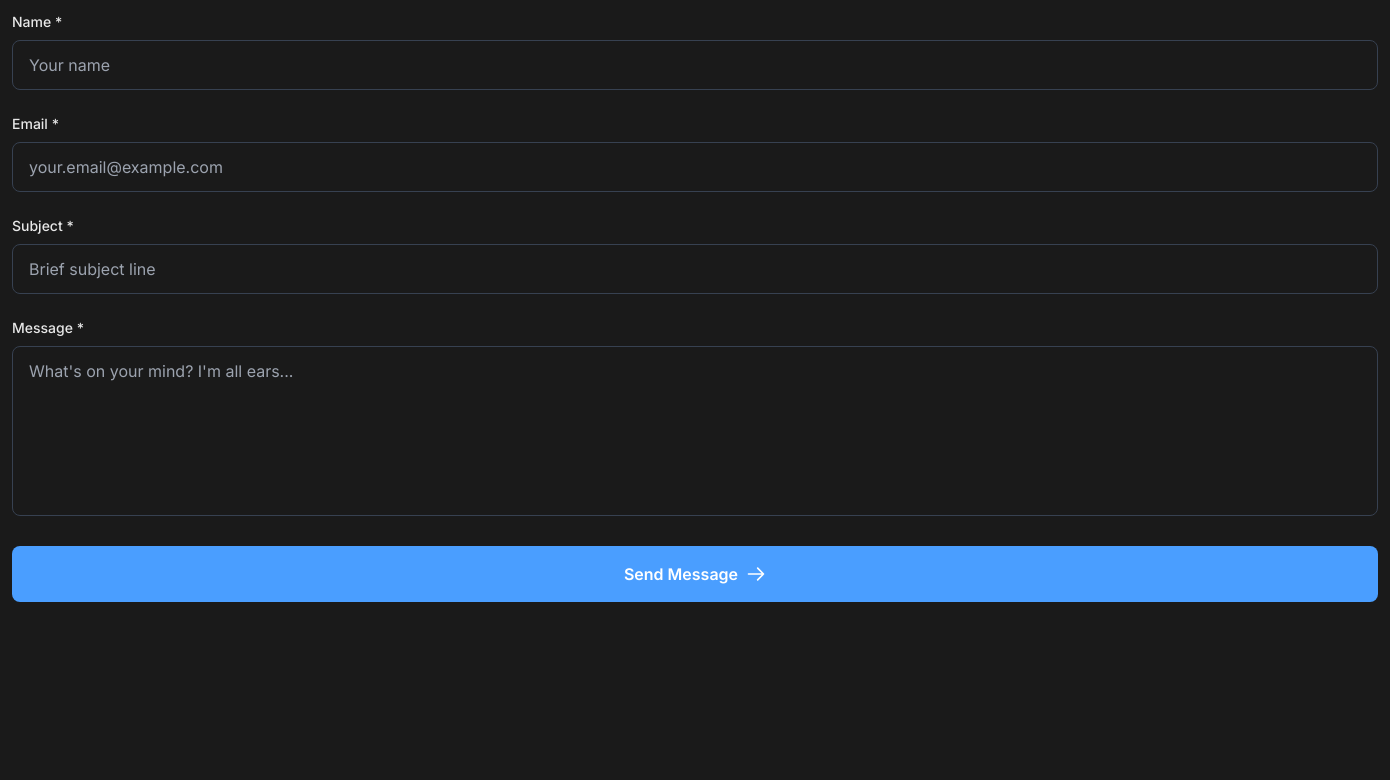
Scenario: ContactForm › Form Submission Flow › shows loading state during submission
In the field labelled "Name *": (695, 65) [12, 40, 1378, 90], type "John Doe"
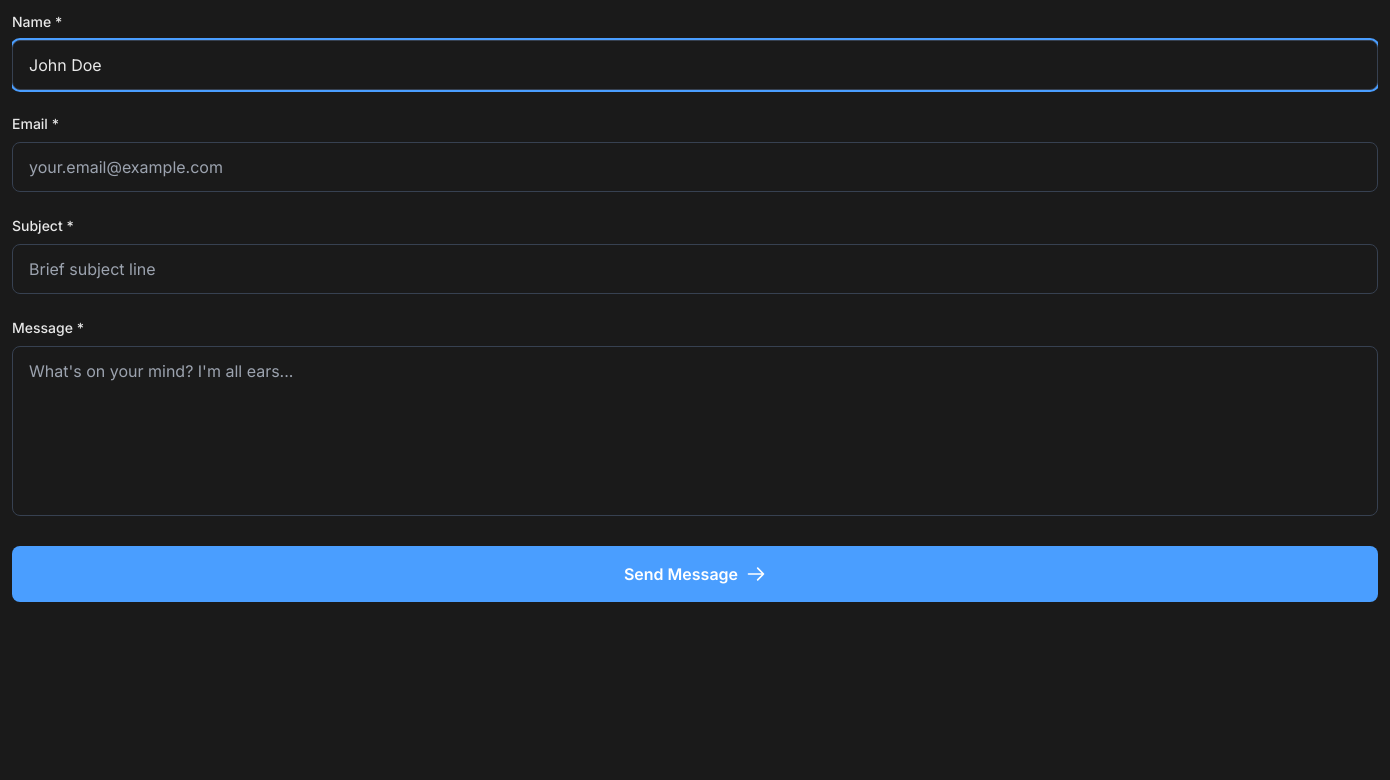
In the field labelled "Email *": (695, 167) [12, 142, 1378, 192], type "john@example.com"
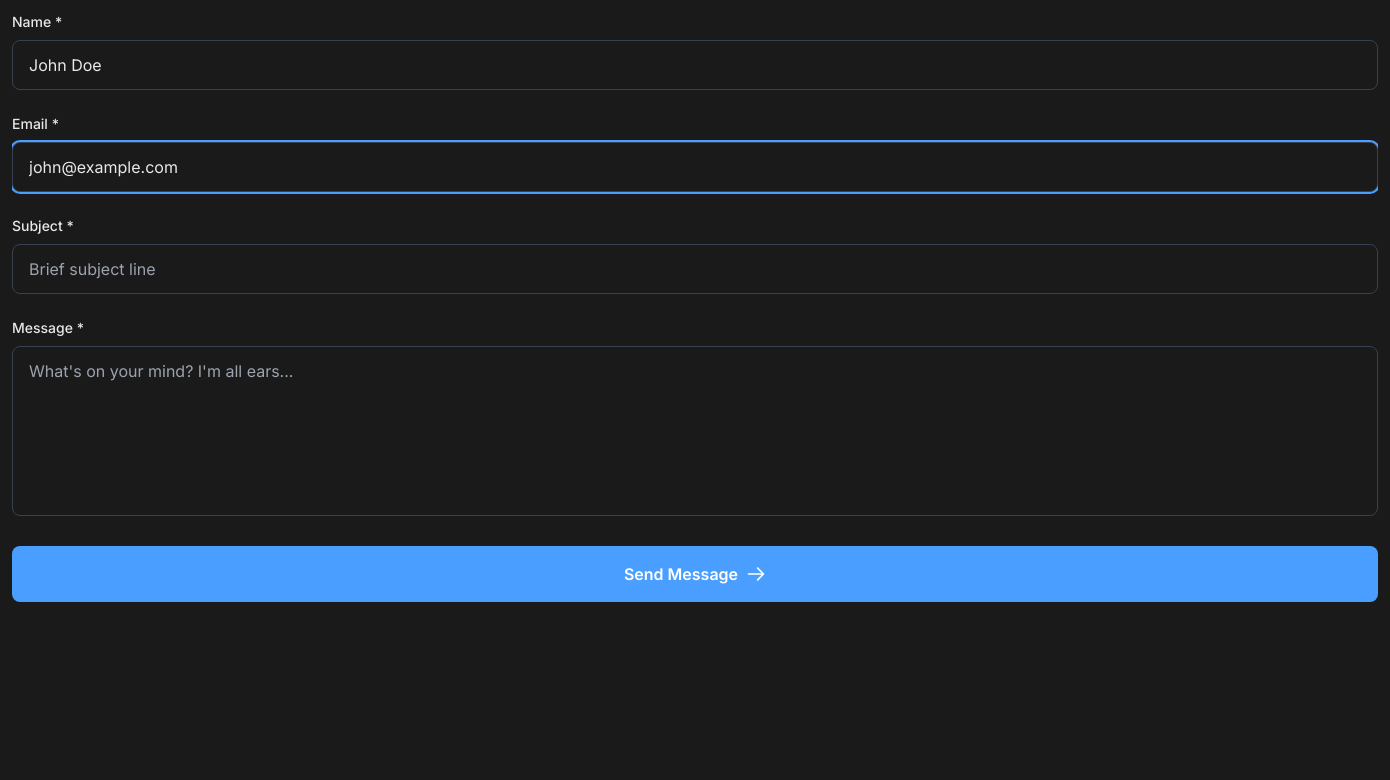
In the field labelled "Subject *": (695, 269) [12, 244, 1378, 294], type "Test Subject"
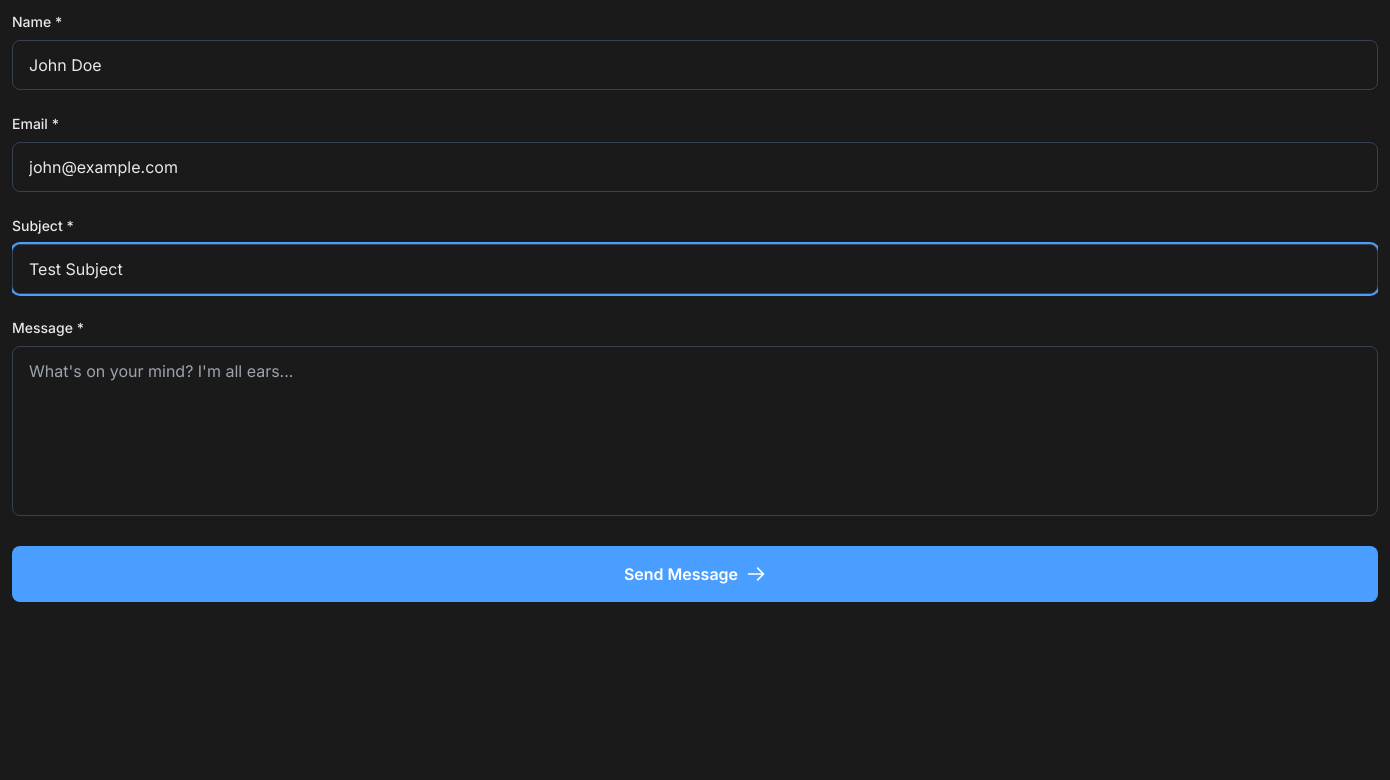
In the text box labelled "Message *": (695, 431) [12, 346, 1378, 516], type "Test Message"
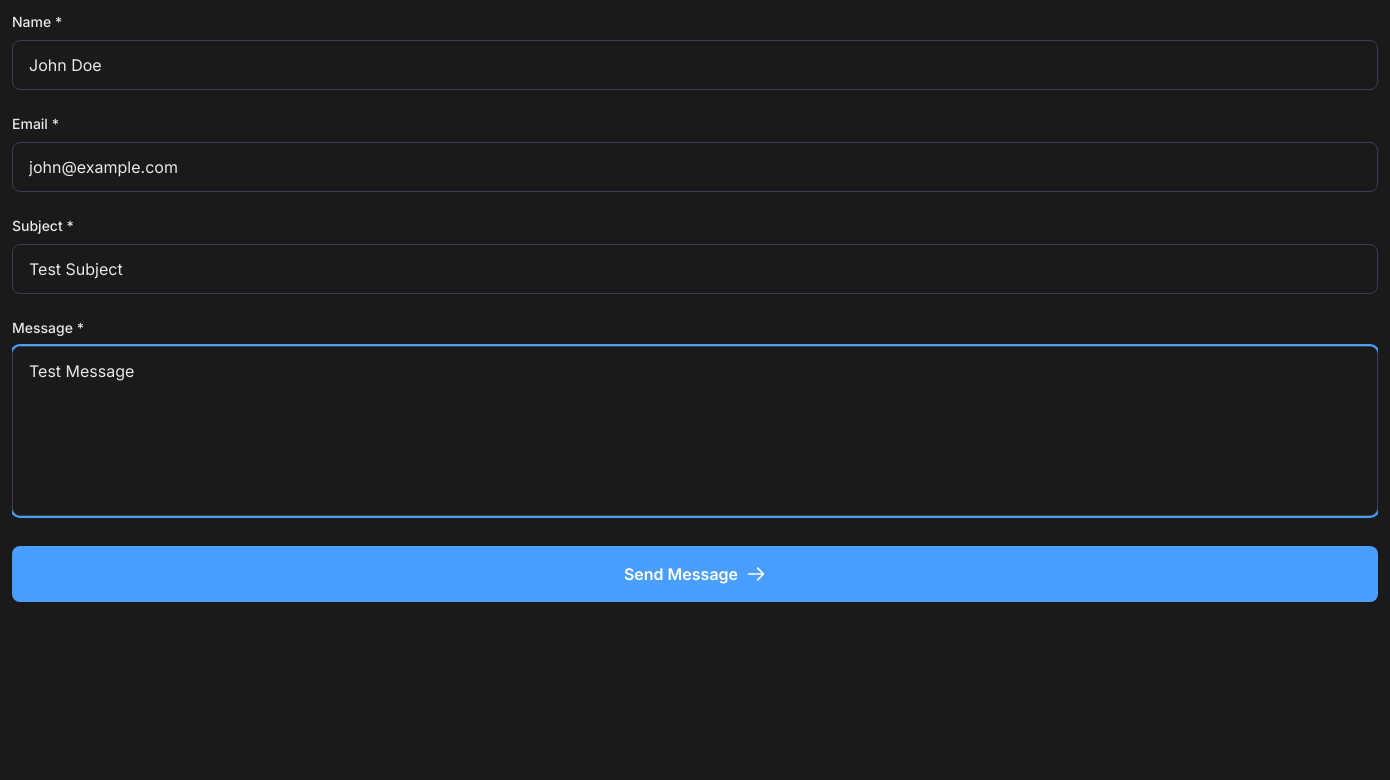
Click the button "Send Message": (695, 574) [12, 546, 1378, 602]
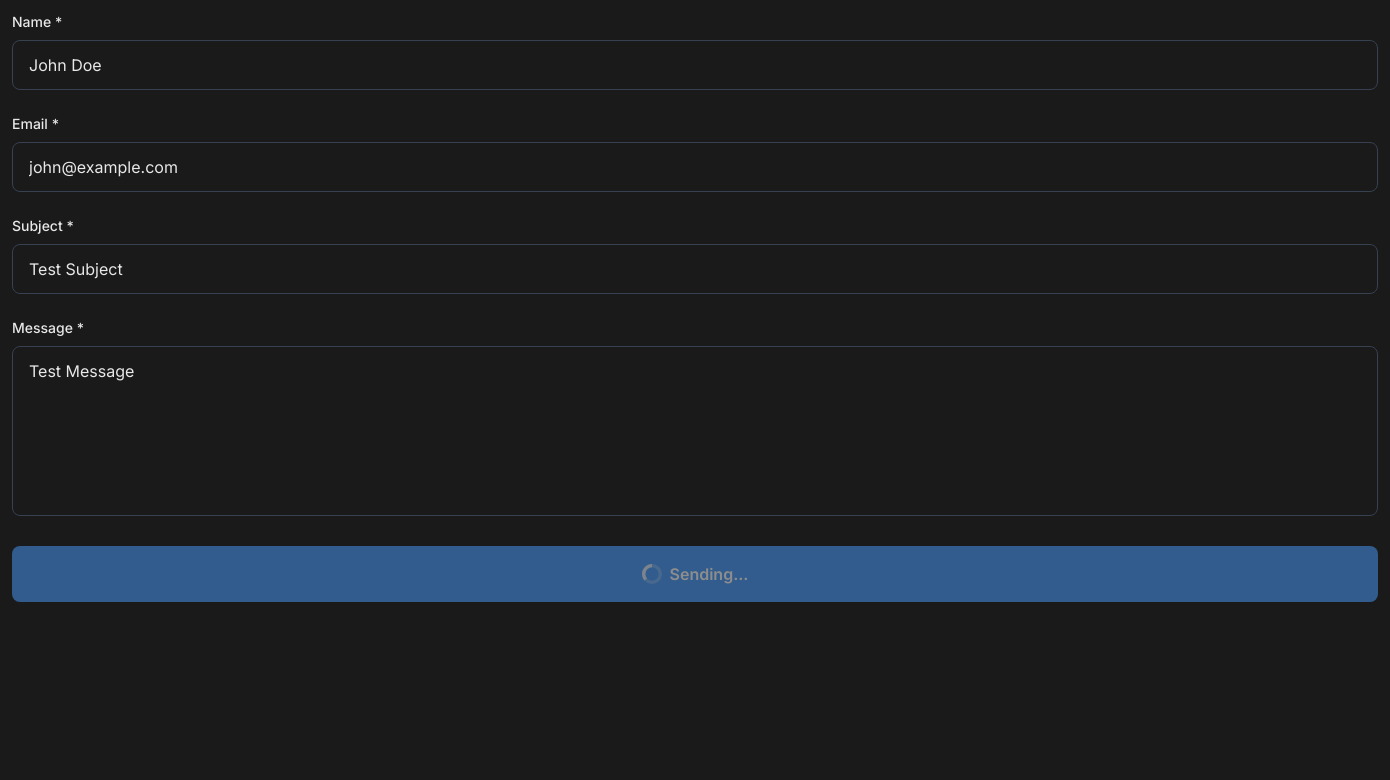
Now the button "Sending..." is disabled, box [12, 546, 1378, 602]
